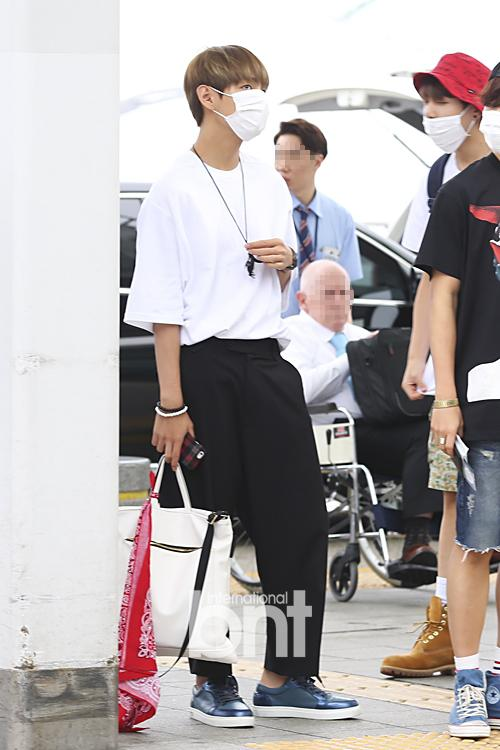OK: (208, 73, 274, 139)
WRONG: (419, 91, 474, 152)
